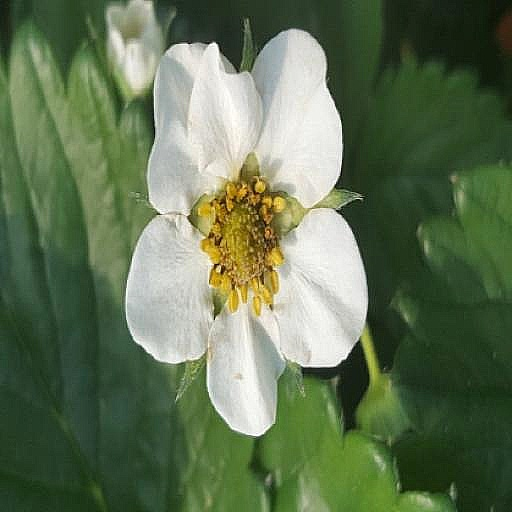Blossom Blight: (197, 194, 290, 339)
